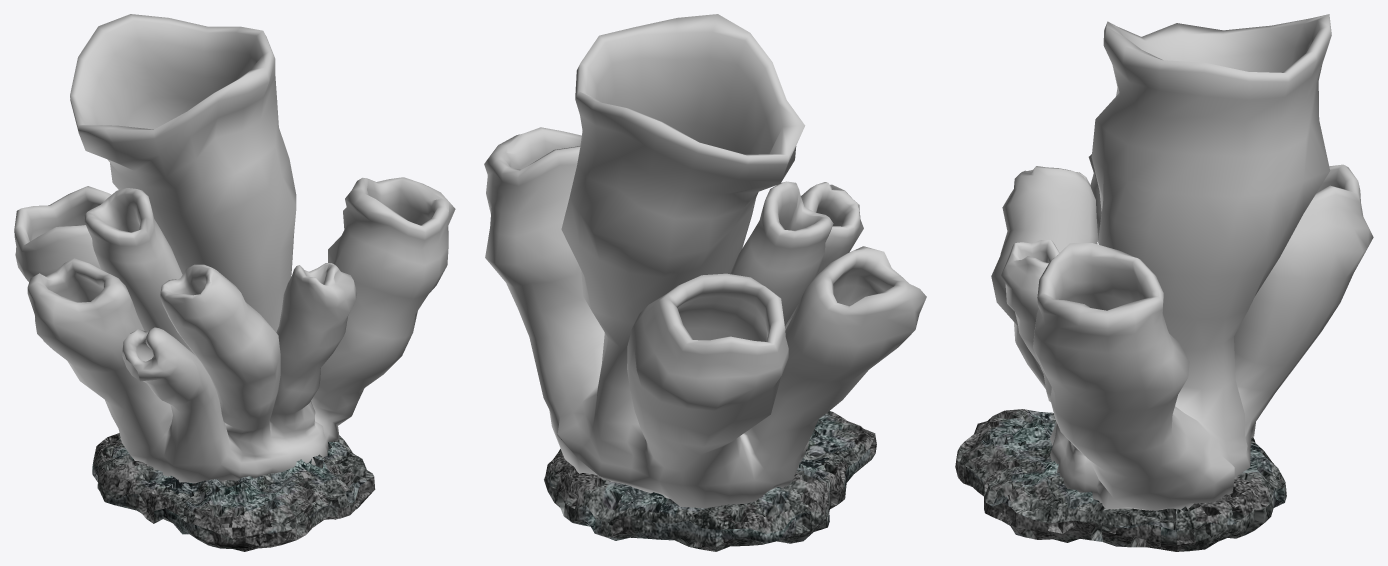
3 views of the same model, side by side, from view 1: azimuth 30°, elevation 25°; view 2: azimuth 150°, elevation 25°; view 3: azimuth 270°, elevation 25° (orthographic). The views are drawn at different scales.
Visible parts, largest first — view 1: c_tube_v2_coral, c_tube_v2_ground; view 2: c_tube_v2_coral, c_tube_v2_ground; view 3: c_tube_v2_coral, c_tube_v2_ground.
Boxes of the visible parts, left/top/right/bottom form: c_tube_v2_coral: left=14, top=14, right=455, bottom=483; c_tube_v2_ground: left=92, top=433, right=375, bottom=551; c_tube_v2_coral: left=484, top=14, right=926, bottom=508; c_tube_v2_ground: left=544, top=411, right=876, bottom=551; c_tube_v2_coral: left=991, top=14, right=1373, bottom=510; c_tube_v2_ground: left=955, top=409, right=1286, bottom=551.
Bounding box in the file's own units: 64.51 × 66.07 × 53.34.
